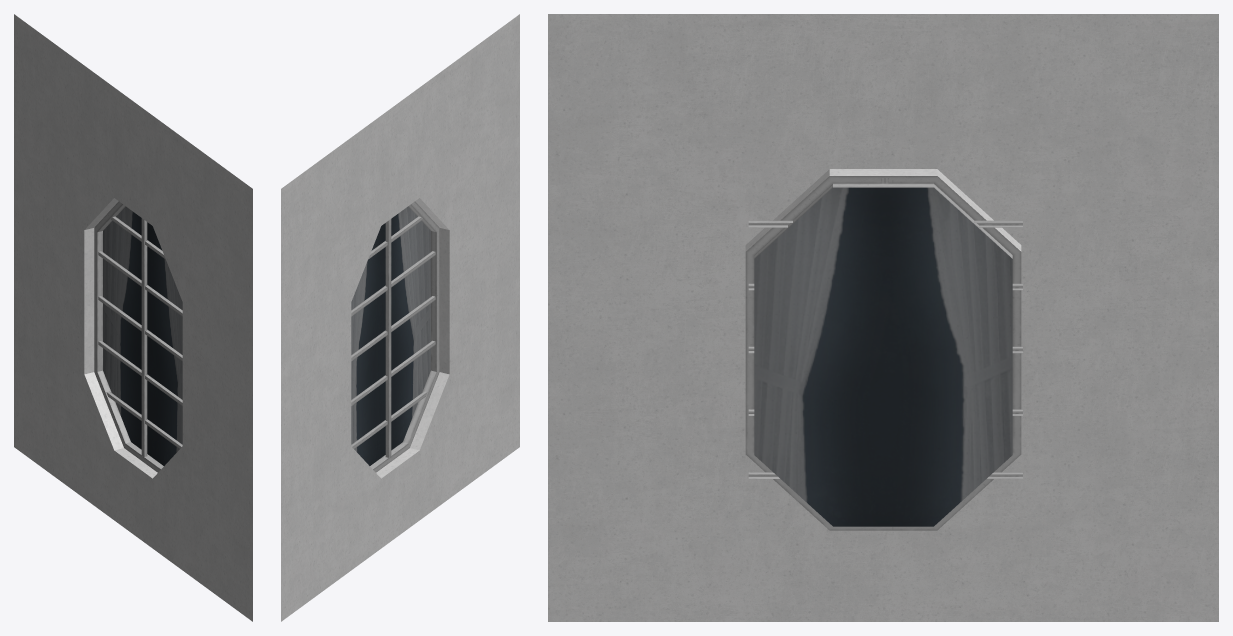
File: MB_Wall_Window_A_16.fbx
3 renders of one model, left to right at view 1: azimuth 30°, elevation 25°; view 2: azimuth 150°, elevation 25°; view 3: azimuth 270°, elevation 25°, orthographic. The views are drawn at different scales.
Visible parts, largest first — view 1: MB_Wall_Window_A_16; view 2: MB_Wall_Window_A_16; view 3: MB_Wall_Window_A_16.
Part boxes in pixels (x1=…): MB_Wall_Window_A_16: x1=14, y1=14, x2=252, y2=621; MB_Wall_Window_A_16: x1=281, y1=14, x2=519, y2=621; MB_Wall_Window_A_16: x1=548, y1=14, x2=1218, y2=621.
Bounding box in the file's own units: 15 × 400 × 400.
